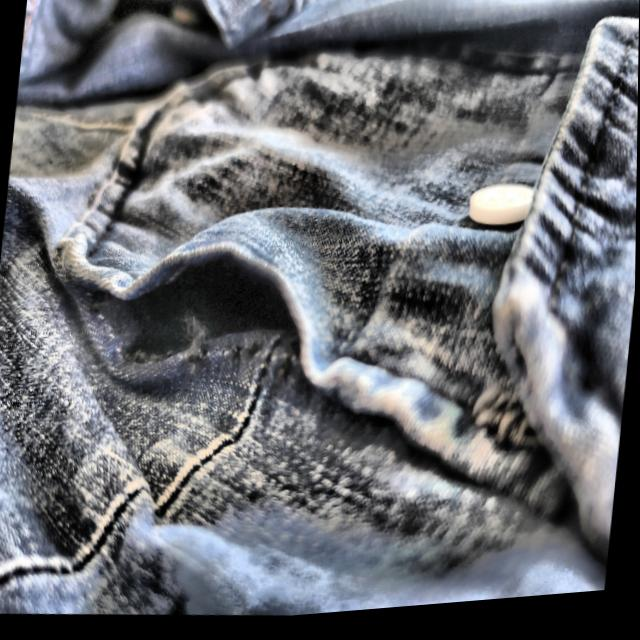seam: (49, 223, 369, 418)
